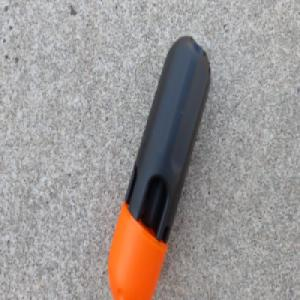PlasticPart: (106, 34, 212, 300)
